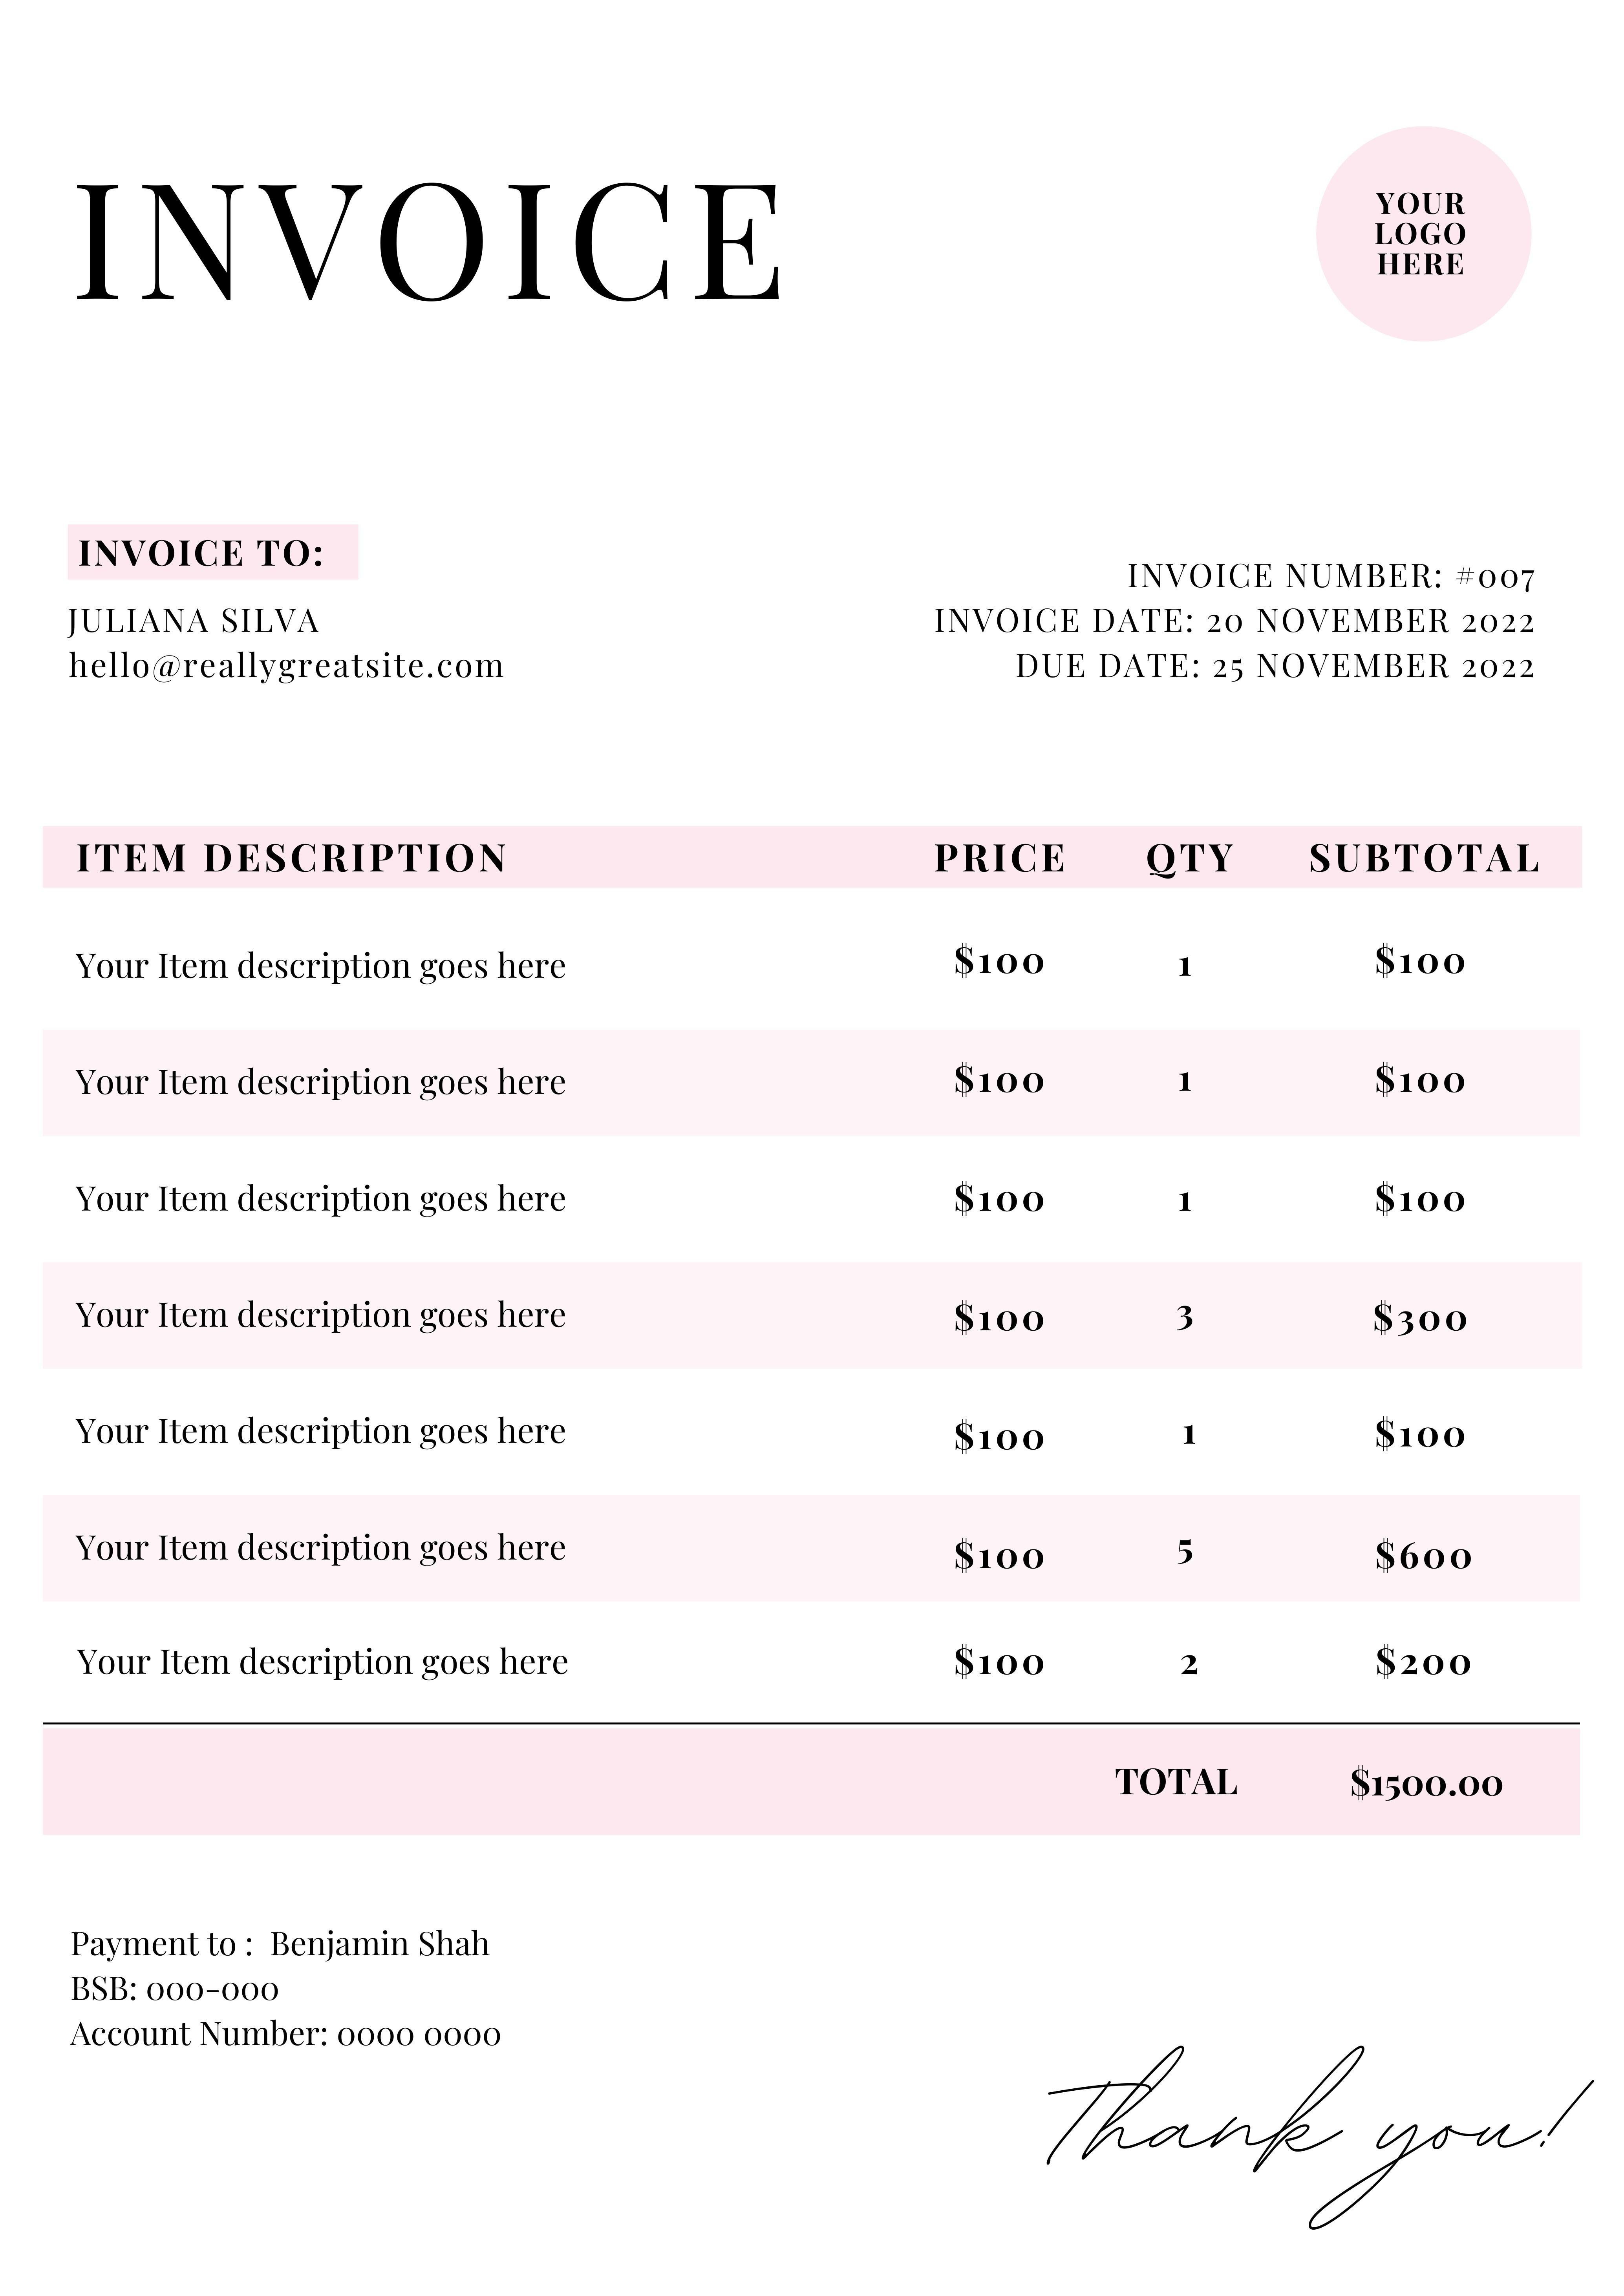ROI: (39, 829, 1580, 1722), (919, 536, 1561, 697), (53, 1897, 536, 2076), (58, 516, 510, 694), (1079, 1734, 1533, 1815)
